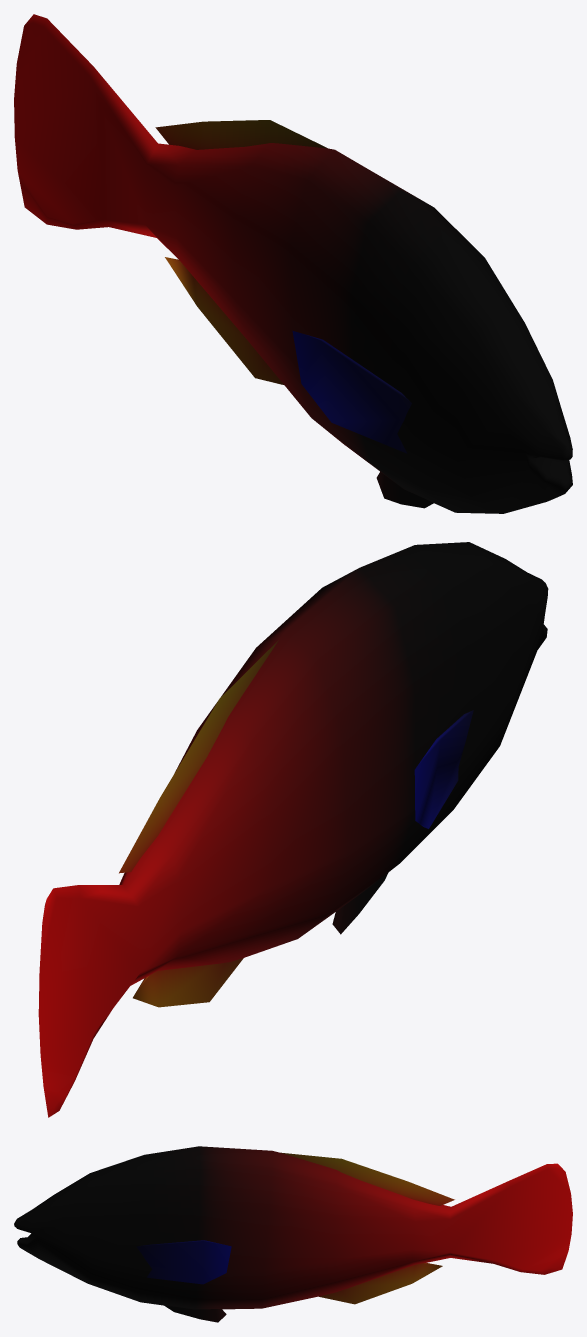
3 renders of one model, top to bottom at view 1: azimuth 30°, elevation 25°; view 2: azimuth 150°, elevation 25°; view 3: azimuth 270°, elevation 25°, orthographic. The views are drawn at different scales.
Parts seen in each view (by area): view 1: parrotfish v2_final; view 2: parrotfish v2_final; view 3: parrotfish v2_final.
Boxes of the visible parts, bbox=[...] form: parrotfish v2_final: bbox=[14, 14, 572, 513]; parrotfish v2_final: bbox=[38, 542, 548, 1117]; parrotfish v2_final: bbox=[14, 1146, 572, 1322].
Bounding box in the file's own units: 0.0563 × 0.108 × 0.31.
